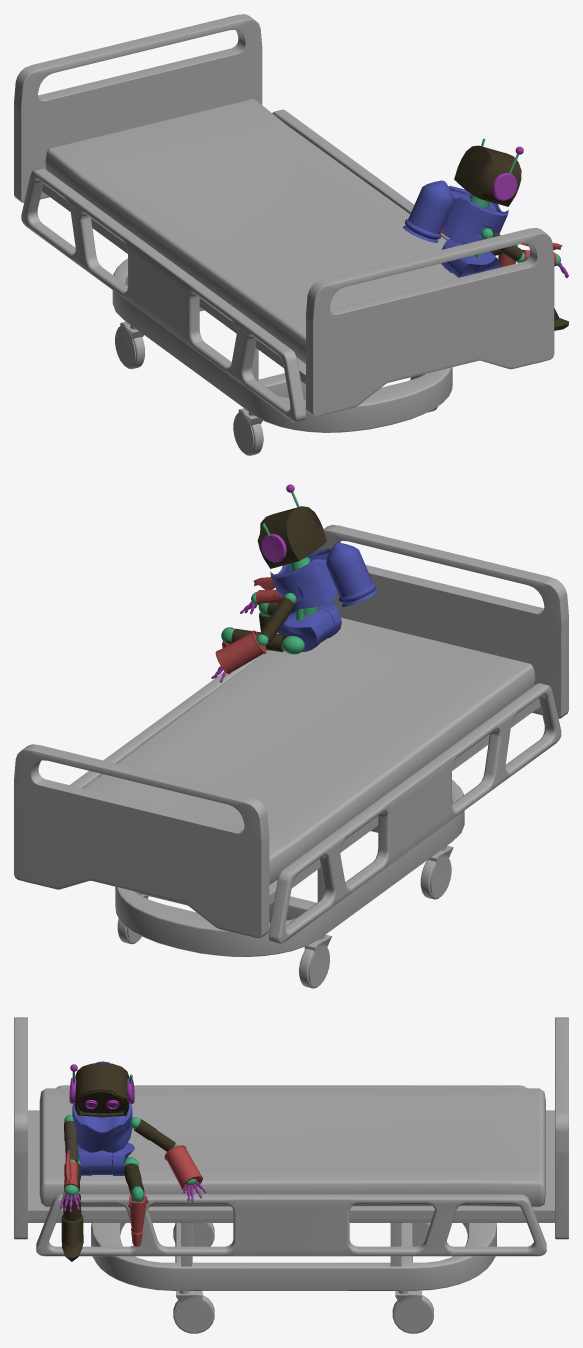
The model's file is R-BRT-MainMenu.fbx.
3 renders of one model, top to bottom at view 1: azimuth 30°, elevation 25°; view 2: azimuth 150°, elevation 25°; view 3: azimuth 270°, elevation 25°, orthographic. The views are drawn at different scales.
Visible parts, largest first — view 1: Mattress, Footrest, Footrest1, SideBarrier2, UnderCarriage, Head, Chest, JetPack, SideBarrier1, MattressHolder, Wheel4, Wheel3 (+2 smaller); view 2: Mattress, Footrest1, Footrest, SideBarrier2, UnderCarriage, Head, Chest, JetPack, SideBarrier1, Hips2, MattressHolder, Wheel3 (+3 smaller); view 3: Mattress, SideBarrier1, UnderCarriage, MattressHolder, Footrest1, Footrest, Head, MattressSupport1, Chest, Wheel2, Wheel1, SideBarrier2 (+7 smaller).
Boxes of the visible parts, x1,y1,x2,y2 form: Mattress: [45, 99, 457, 364]; Footrest: [306, 227, 554, 416]; Footrest1: [14, 14, 262, 202]; SideBarrier2: [21, 168, 306, 422]; UnderCarriage: [112, 258, 452, 432]; Head: [454, 145, 521, 206]; Chest: [443, 185, 508, 252]; JetPack: [403, 180, 453, 242]; SideBarrier1: [272, 109, 541, 363]; MattressHolder: [42, 183, 305, 383]; Wheel4: [233, 408, 263, 455]; Wheel3: [115, 321, 144, 369]; Mattress: [84, 617, 535, 884]; Footrest1: [14, 744, 269, 938]; Footrest: [315, 524, 568, 718]; SideBarrier2: [268, 683, 561, 944]; UnderCarriage: [115, 780, 464, 956]; Head: [257, 506, 326, 568]; Chest: [270, 547, 337, 614]; JetPack: [326, 542, 378, 606]; SideBarrier1: [26, 632, 278, 883]; Hips2: [278, 602, 341, 651]; MattressHolder: [269, 685, 540, 904]; Wheel3: [299, 934, 331, 988]; Mattress: [39, 1087, 545, 1207]; SideBarrier1: [36, 1194, 546, 1256]; UnderCarriage: [91, 1223, 496, 1290]; MattressHolder: [28, 1110, 554, 1218]; Footrest1: [555, 1017, 568, 1239]; Footrest: [14, 1017, 27, 1239]; Head: [74, 1062, 129, 1116]; MattressSupport1: [28, 1219, 554, 1266]; Chest: [72, 1101, 132, 1152]; Wheel2: [392, 1290, 433, 1333]; Wheel1: [173, 1291, 214, 1333]; SideBarrier2: [56, 1085, 526, 1088].
Size of the model in its own units: 120 by 119 by 213.
